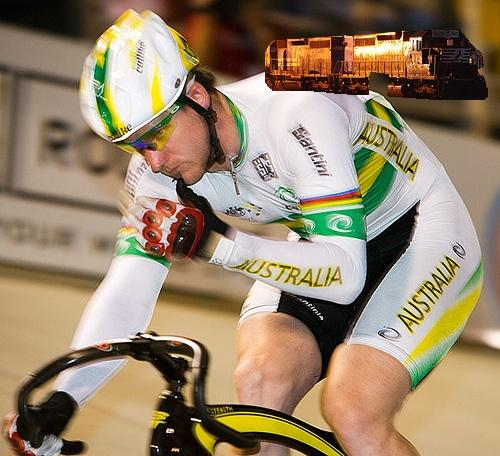tampered: (266, 30, 488, 100)
